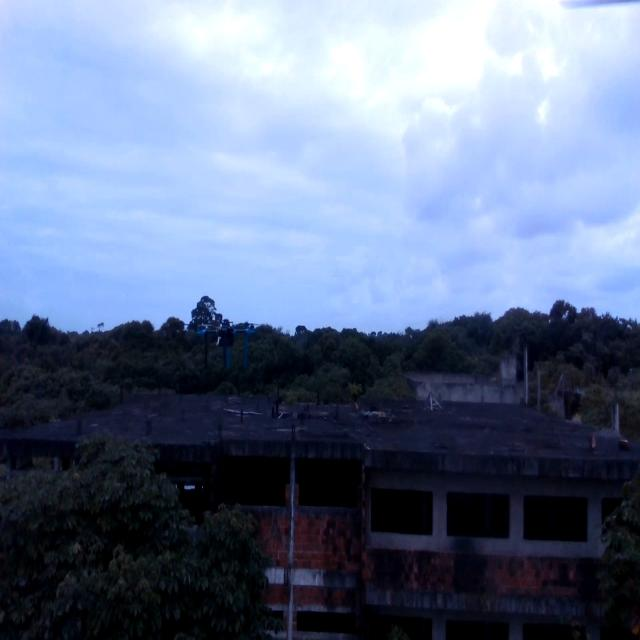-uav-: (188, 305, 260, 381)
